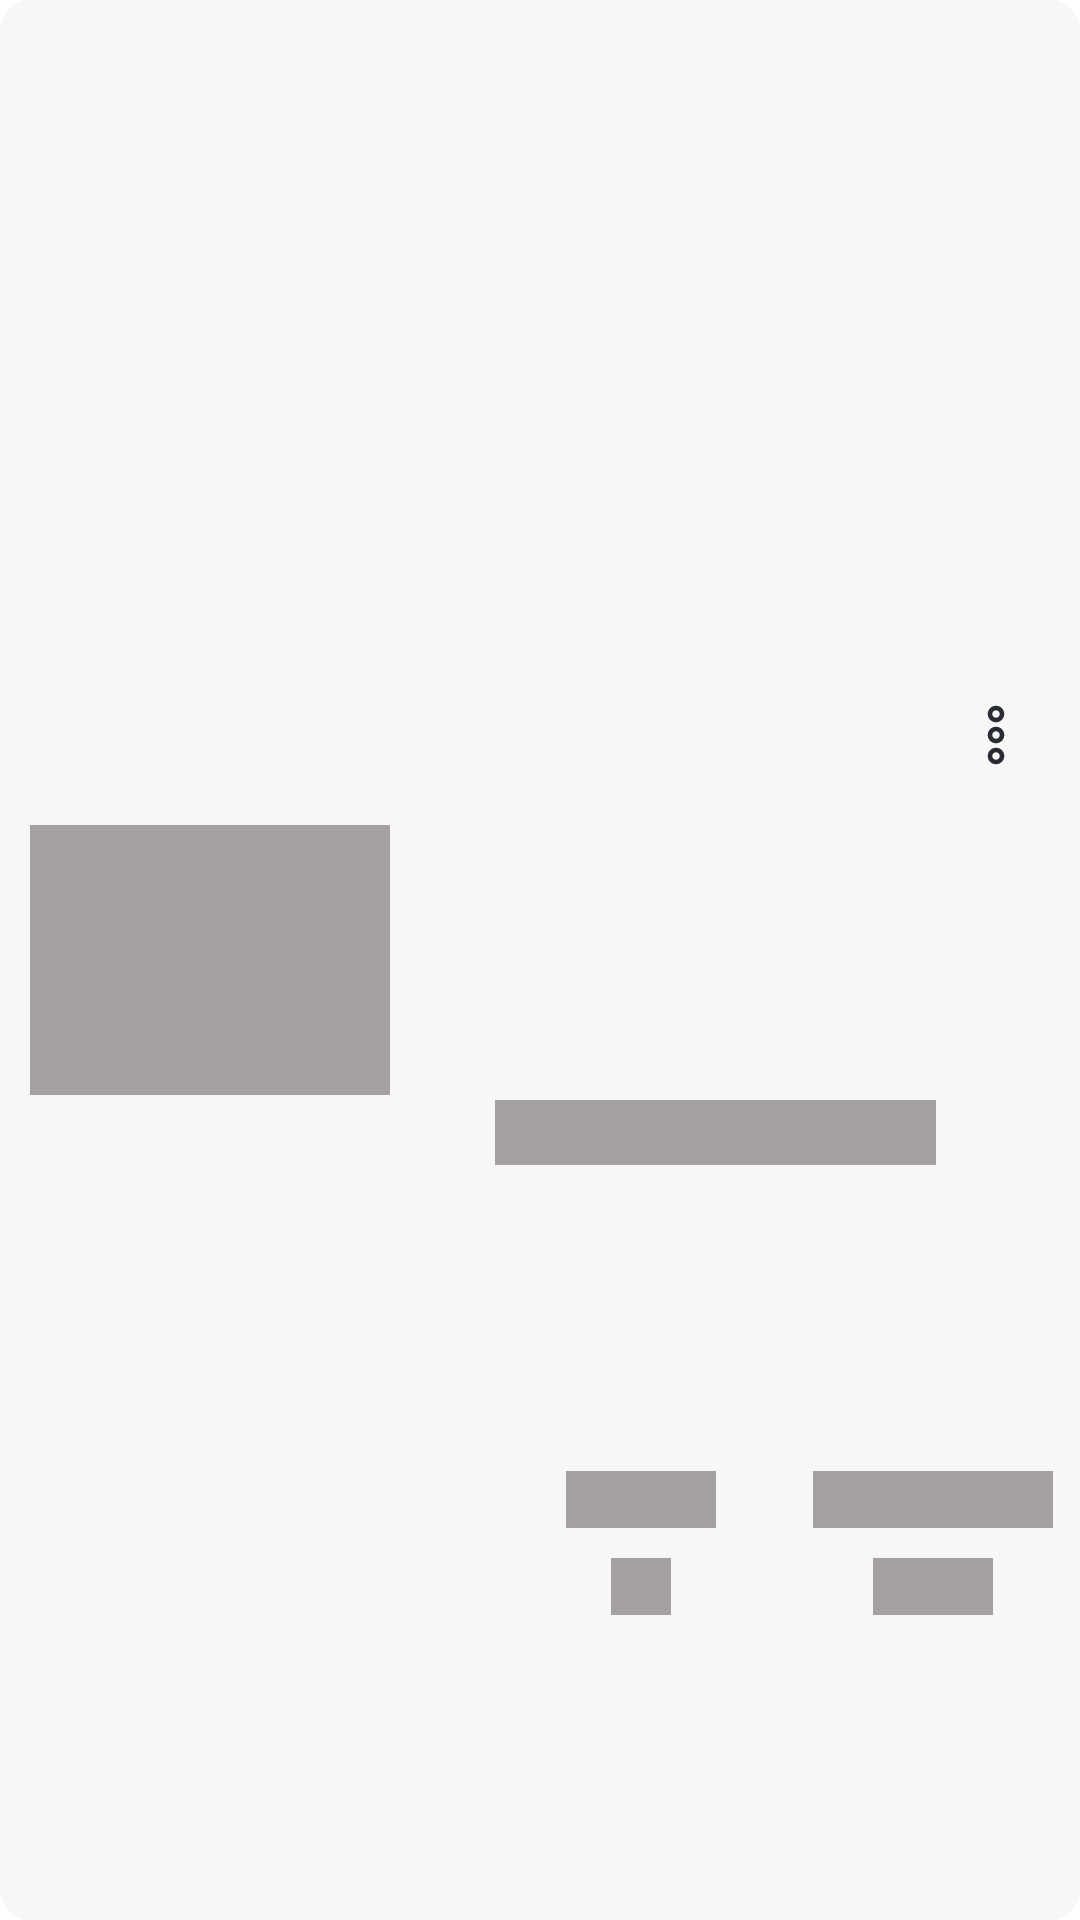

Screen size 1080w x 1920h. Icon name, then its box in pixels as (x1, y1, x2, y2):
more: (987, 705, 1005, 765)
